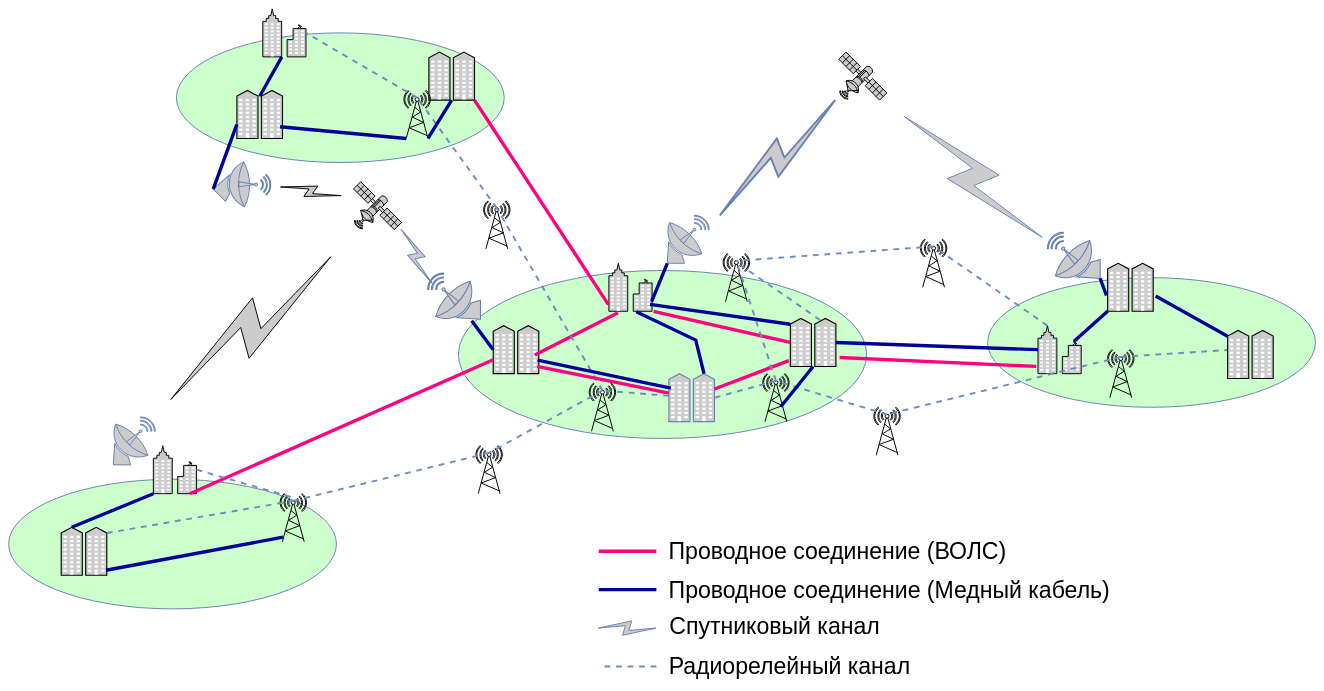
This 1324x691 diagram has some shape labels left out. Each missing label, with the box of its shape:
Брянск: (8, 479, 337, 609)
Москва: (458, 270, 867, 439)
Новосибирск: (987, 277, 1316, 408)
Тверь: (176, 32, 504, 163)
